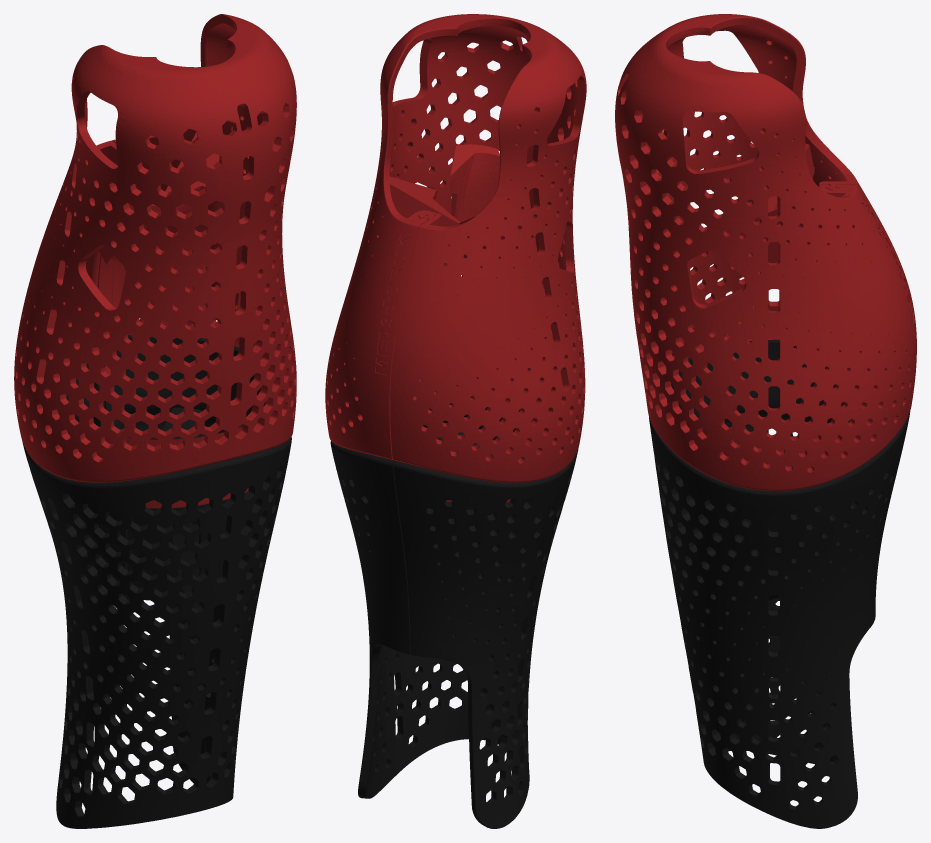
File: cosmetic5.glb
3 views of the same model, side by side, from view 1: azimuth 30°, elevation 25°; view 2: azimuth 150°, elevation 25°; view 3: azimuth 270°, elevation 25° (orthographic). The views are drawn at different scales.
Parts seen in each view (by area): view 1: Бобер п, Бобер п 1; view 2: Бобер п, Бобер п 1; view 3: Бобер п, Бобер п 1.
Part boxes in pixels (x1,y1,x2,y2): Бобер п: (14,14,296,508); Бобер п 1: (22,335,291,828); Бобер п: (325,14,586,502); Бобер п 1: (330,385,578,828); Бобер п: (615,14,916,490); Бобер п 1: (649,339,910,828).
Size of the model in its own units: 130 by 409 by 149.
